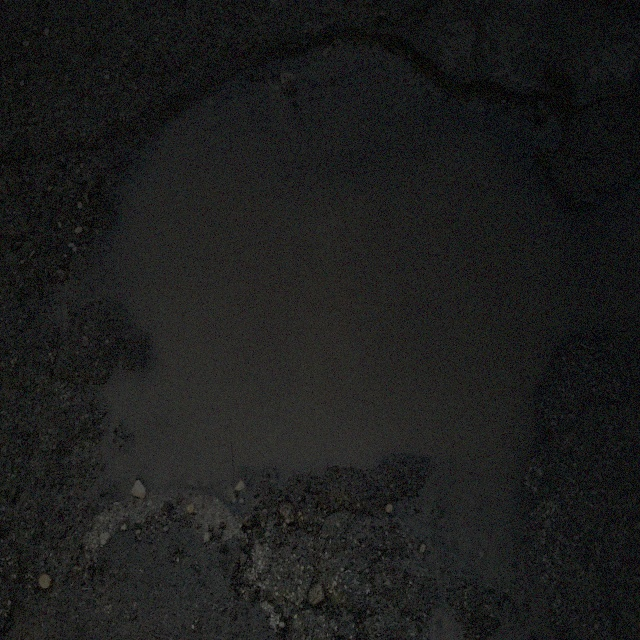pothole: (75, 19, 596, 589)
